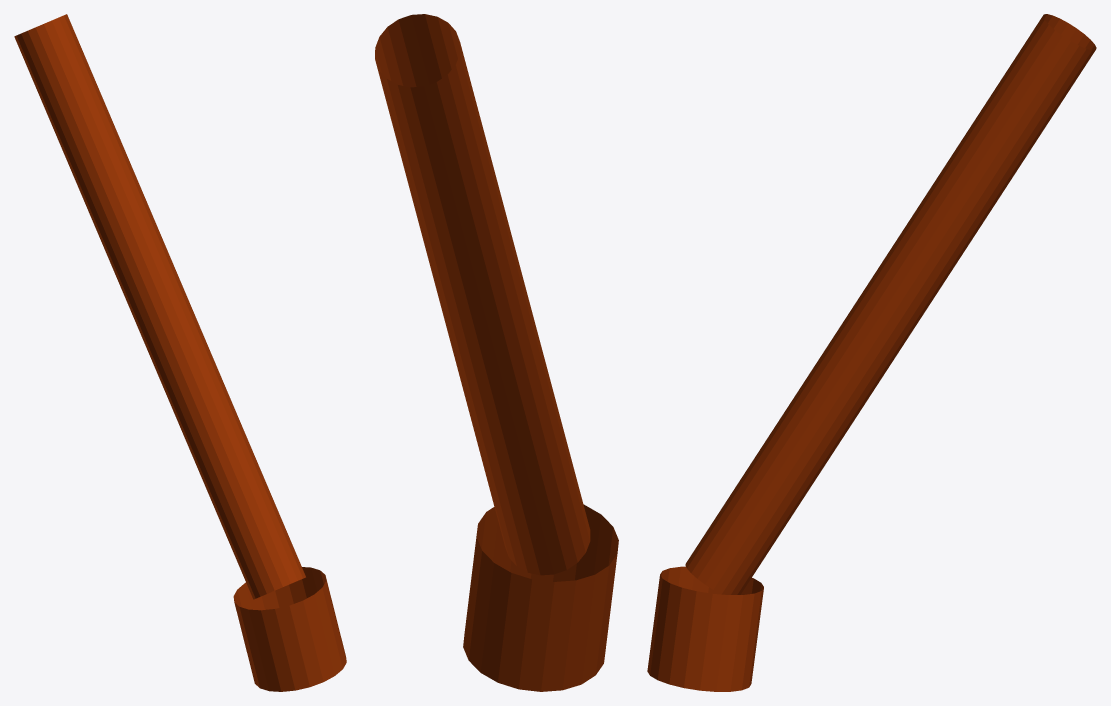
The model's file is tree_0169.obj.
The picture shows the model from 3 angles, left to right: view 1: azimuth 30°, elevation 25°; view 2: azimuth 150°, elevation 25°; view 3: azimuth 270°, elevation 25°; orthographic projection. The views are drawn at different scales.
Parts seen in each view (by area): view 1: groupWood; view 2: groupWood; view 3: groupWood.
Boxes of the visible parts, left/top/right/bottom form: groupWood: left=14, top=14, right=346, bottom=691; groupWood: left=375, top=14, right=618, bottom=691; groupWood: left=647, top=14, right=1096, bottom=691.
Size of the model in its own units: 0.1652 by 0.5725 by 0.374.
